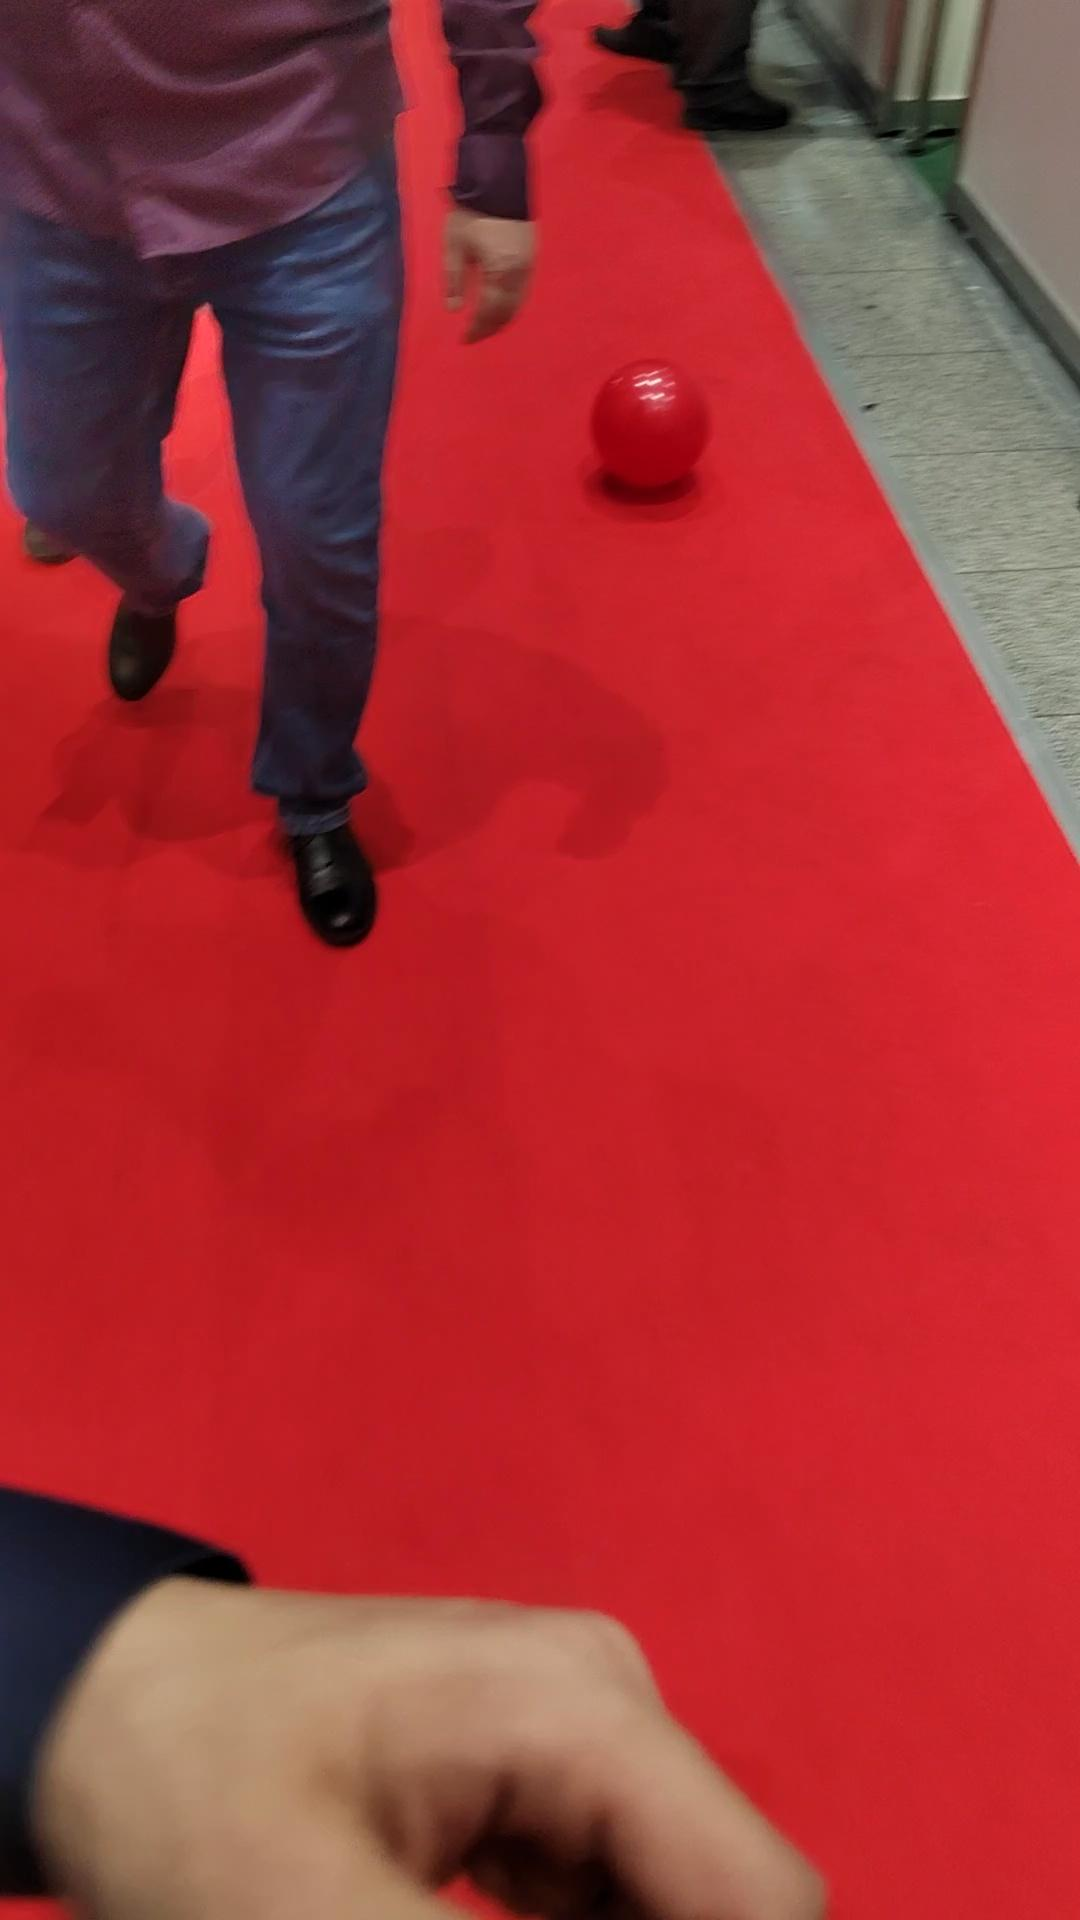red: (589, 357, 711, 489)
